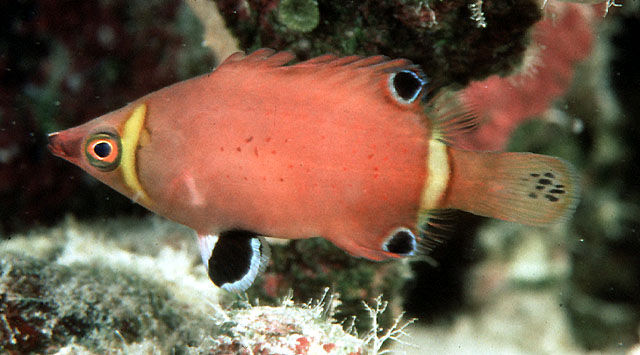fish: (47, 47, 582, 292)
